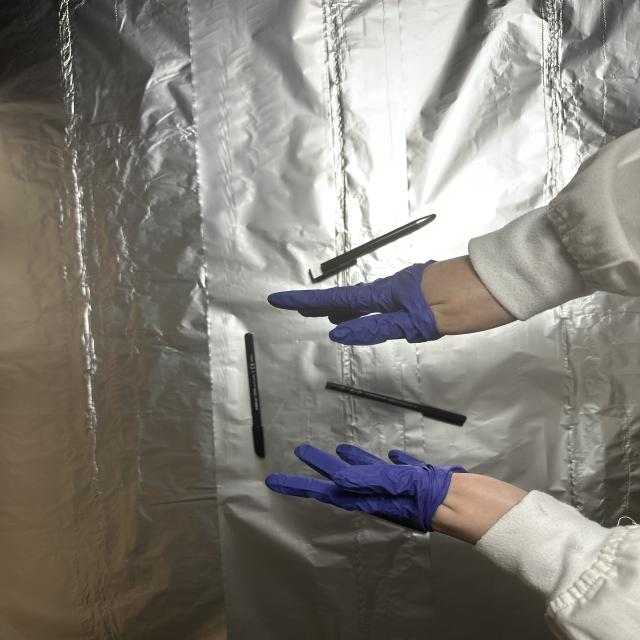glove_partial: (262, 438, 534, 548), (264, 252, 518, 346)
